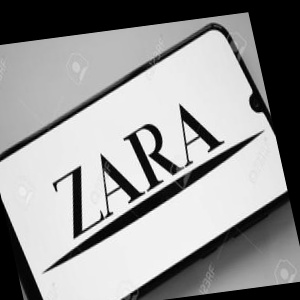mango: (9, 77, 300, 300)
zara: (222, 50, 273, 130)
